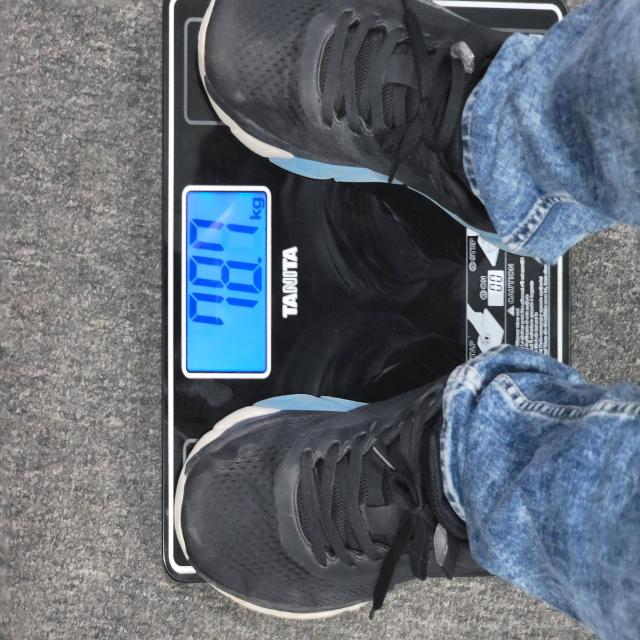ws: (181, 186, 273, 383)
